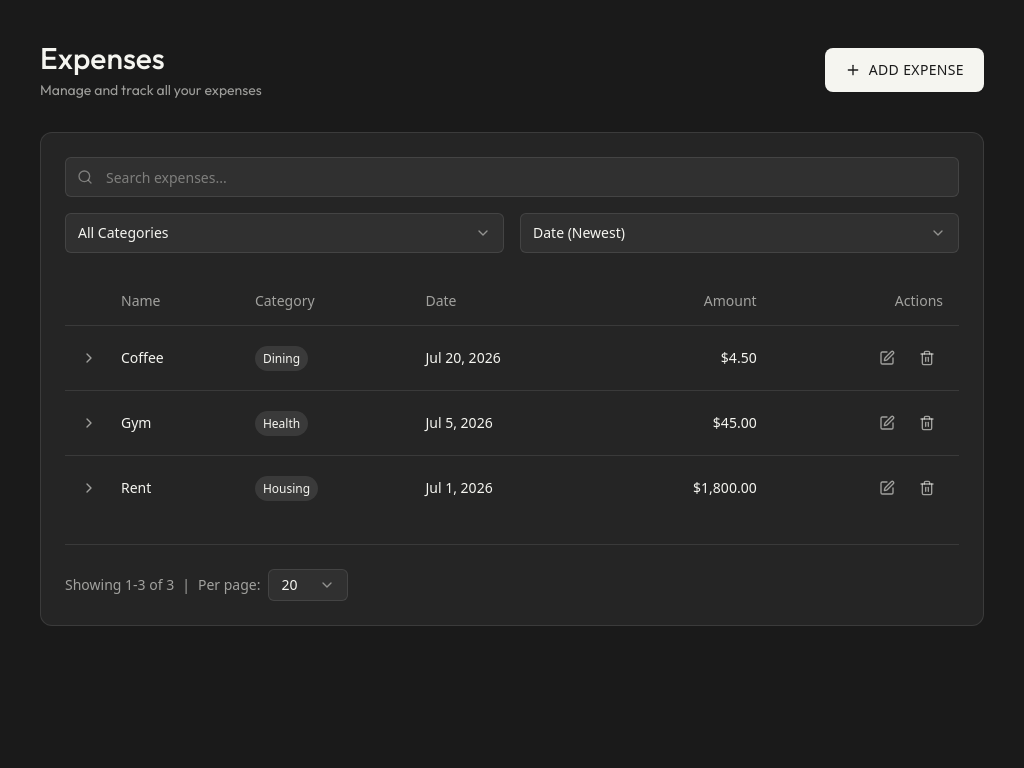
it: ExpensesPage - one delete confirmation, scoped to its row › dismisses fully on Cancel and deletes nothing
expect the table is shown: met, box x1=65 y1=277 x2=959 y2=520
expect the text "Rent" is shown: met, box x1=121 y1=478 x2=151 y2=496
Step 1. Click the button named "Delete Rent" → (927, 488), box x1=911 y1=472 x2=943 y2=504
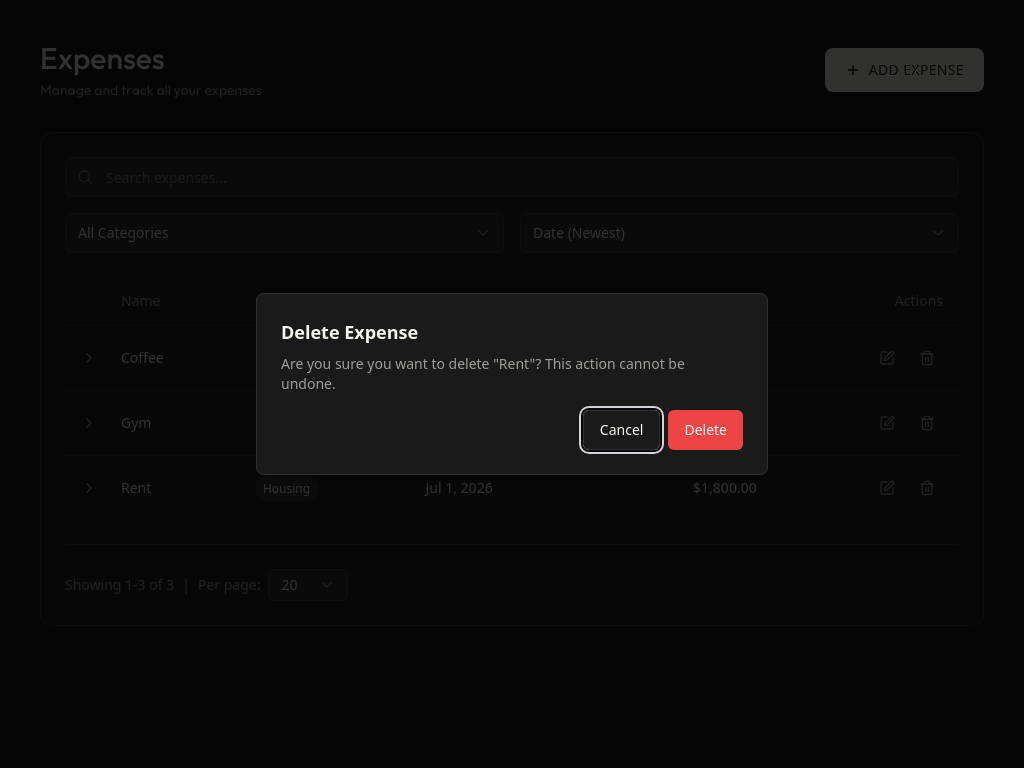
expect the number of dialogs is 1: met, box x1=256 y1=293 x2=768 y2=475
Step 2. Click the button "Cancel" → (622, 430), box x1=583 y1=410 x2=660 y2=450
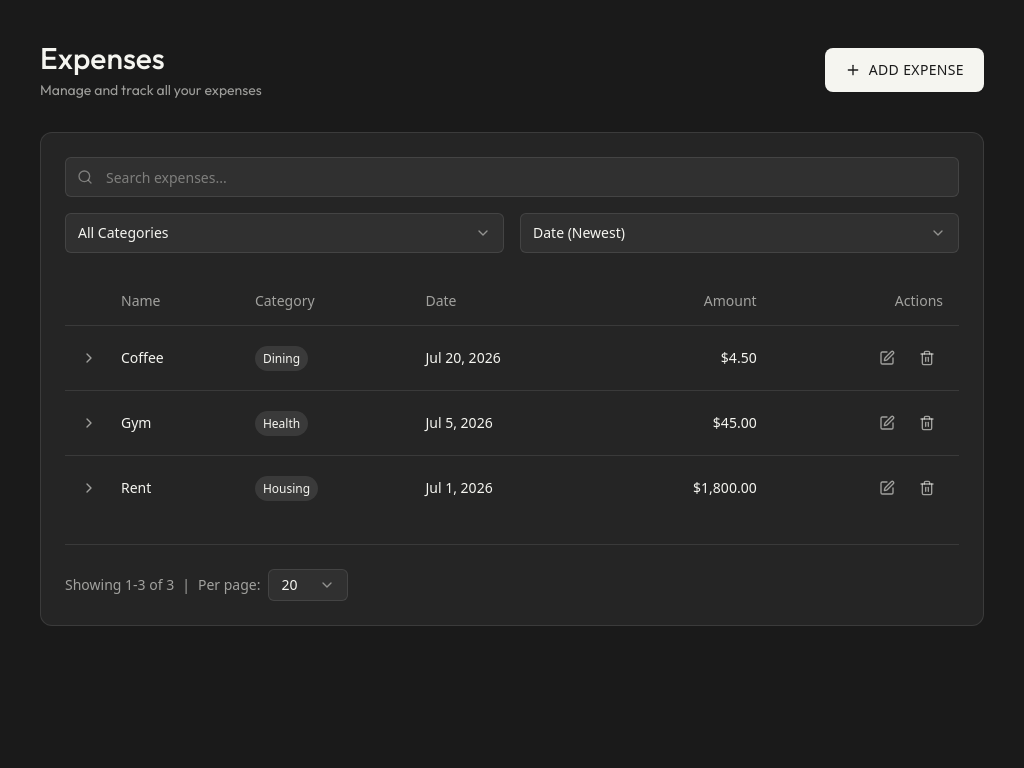
expect the text "Rent" is shown: met, box x1=121 y1=478 x2=151 y2=496
expect the dialog is gone: met
